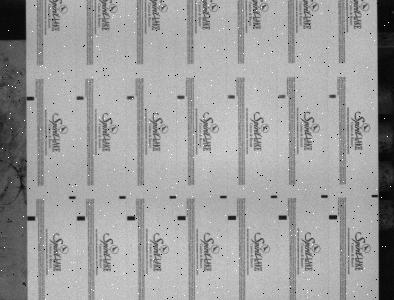backgroundclutter: (22, 282, 26, 285)
incorrect qblock: (177, 95, 185, 99), (329, 94, 337, 98), (77, 96, 84, 100), (127, 95, 134, 99), (228, 95, 235, 99), (279, 94, 286, 98)
qblock: (228, 215, 237, 220), (27, 216, 35, 221), (77, 216, 85, 221), (178, 215, 186, 220), (127, 216, 135, 221), (279, 215, 287, 220), (329, 215, 338, 219), (27, 96, 34, 101)
smallqblock: (170, 195, 177, 199), (372, 194, 379, 198), (119, 196, 126, 199), (69, 196, 76, 199), (220, 195, 227, 198), (271, 195, 278, 198), (321, 195, 328, 198)
